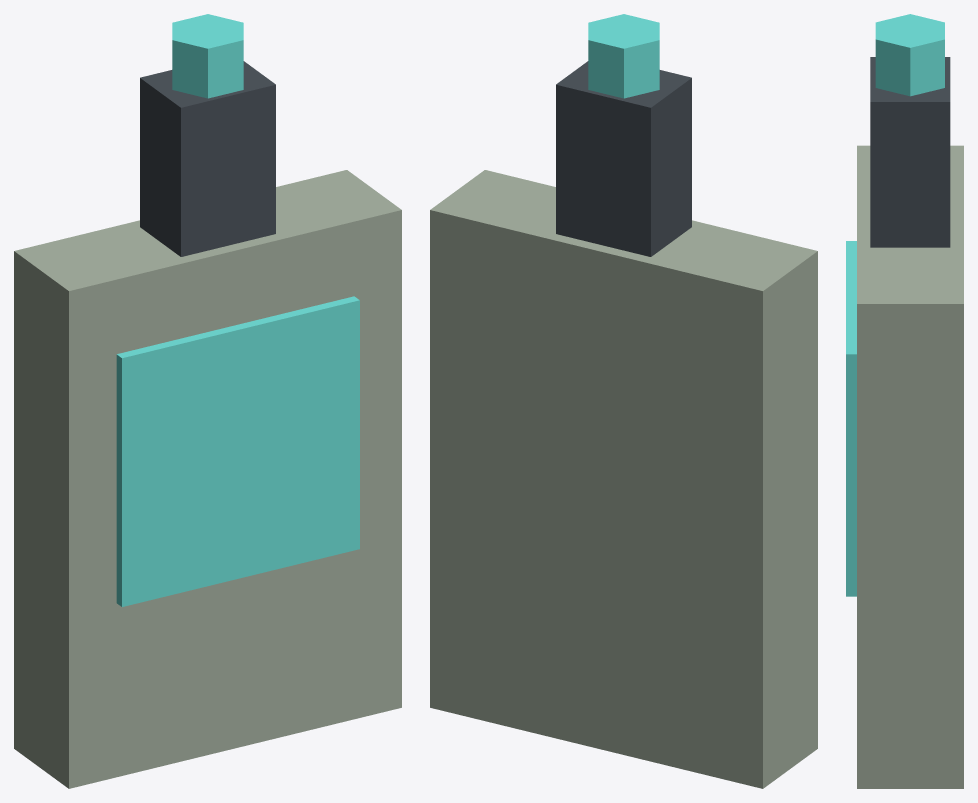
Rendered from SH_Scanner_01.glb.
The picture shows the model from 3 angles, left to right: view 1: azimuth 30°, elevation 25°; view 2: azimuth 150°, elevation 25°; view 3: azimuth 270°, elevation 25°; orthographic projection. The views are drawn at different scales.
Parts seen in each view (by area): view 1: SH_Scanner_01; view 2: SH_Scanner_01; view 3: SH_Scanner_01.
Boxes of the visible parts, left/top/right/bottom form: SH_Scanner_01: left=14, top=14, right=401, bottom=788; SH_Scanner_01: left=430, top=14, right=817, bottom=788; SH_Scanner_01: left=846, top=14, right=963, bottom=788.
Bounding box in the file's own units: 0.14 × 0.28 × 0.044.
Materials: 1 (1 with a texture image).
